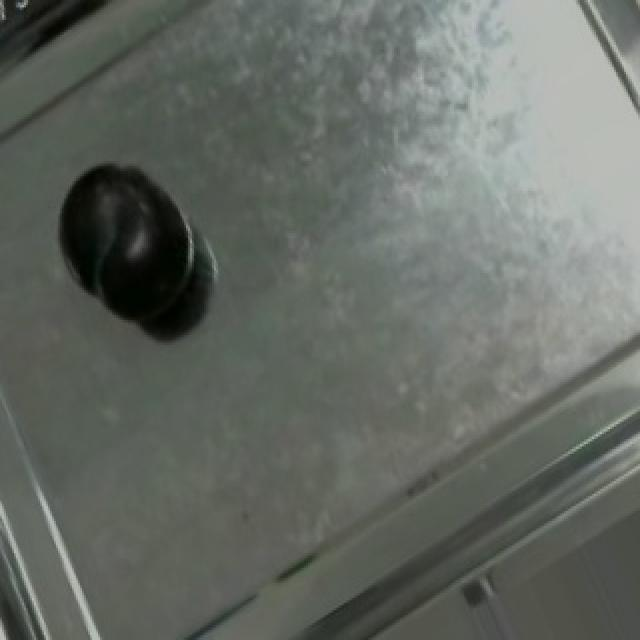Fruit: (38, 141, 216, 345)
